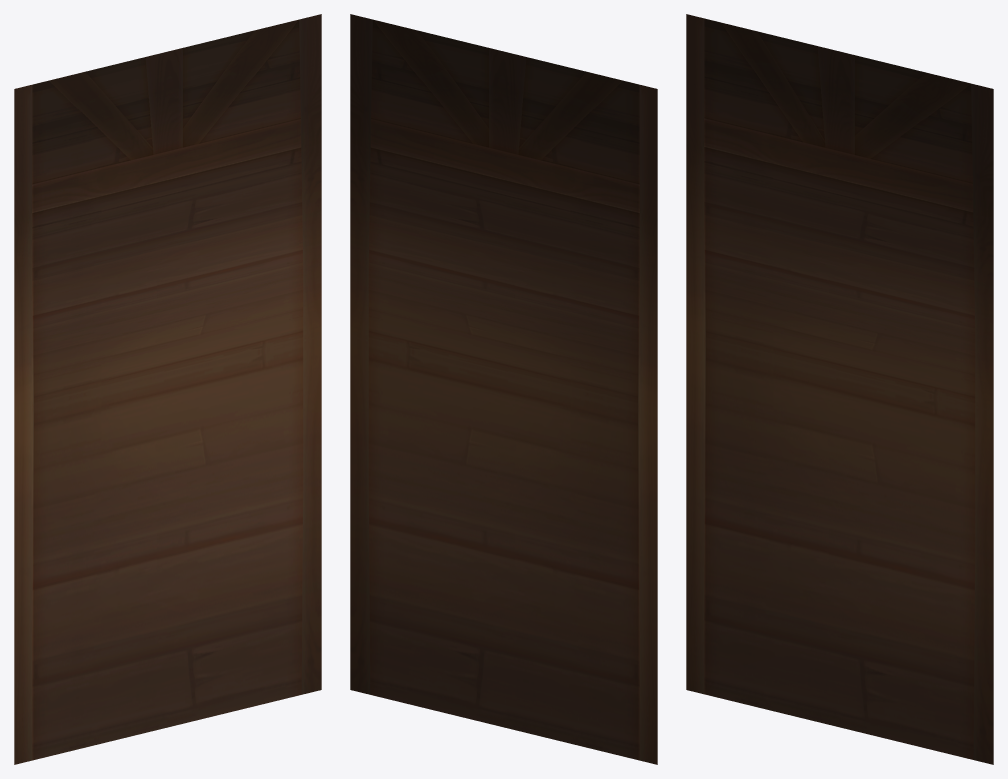
File: buildbk04@skin.FBX
3 views of the same model, side by side, from view 1: azimuth 30°, elevation 25°; view 2: azimuth 150°, elevation 25°; view 3: azimuth 330°, elevation 25° (orthographic).
Visible parts, largest first — view 1: body; view 2: body; view 3: body.
Part boxes in pixels (x1,y1,x2,y2): body: [14, 14, 321, 764]; body: [350, 14, 657, 764]; body: [686, 14, 993, 764].
Bounding box in the file's own units: 29.99 × 62.97 × 0.
1 material, 1 textured.
